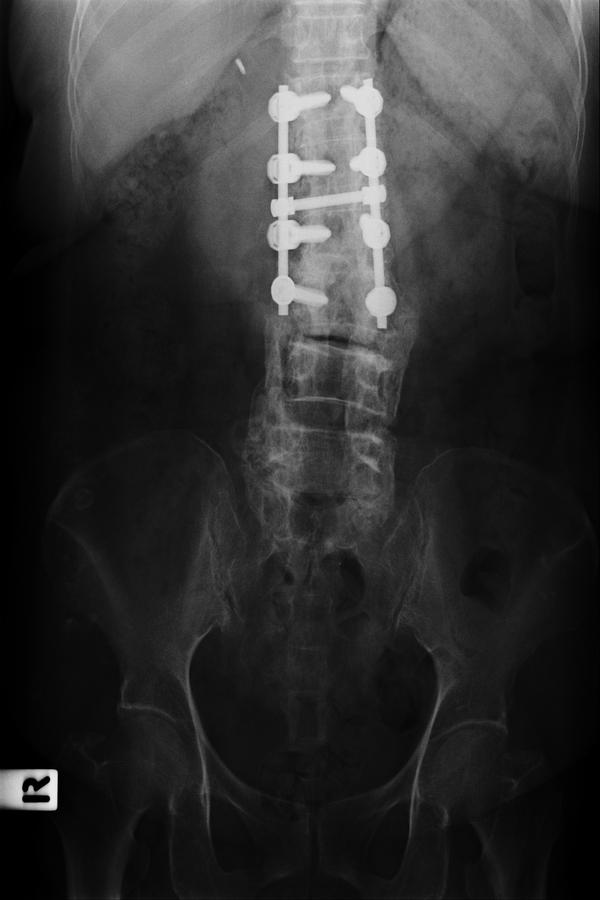lumbar scoliosis: (268, 109, 400, 518)
